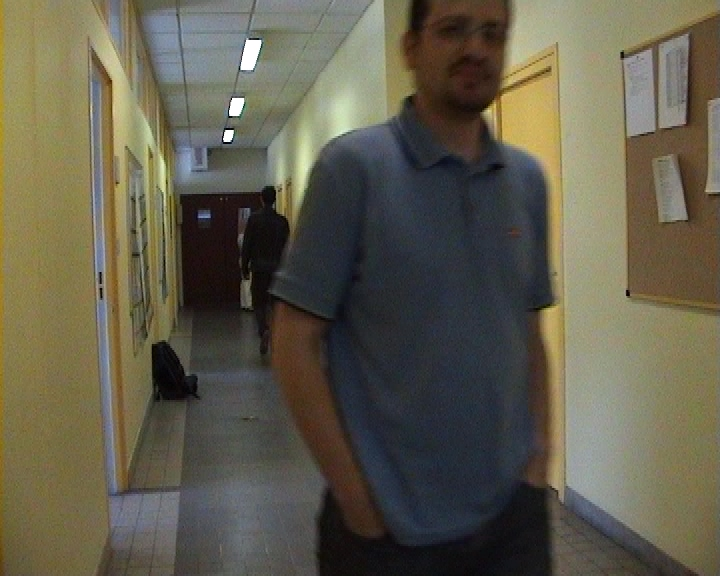leave bag unattended: (133, 318, 232, 450)
